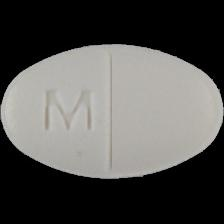43353-609: (0, 0, 224, 224)
